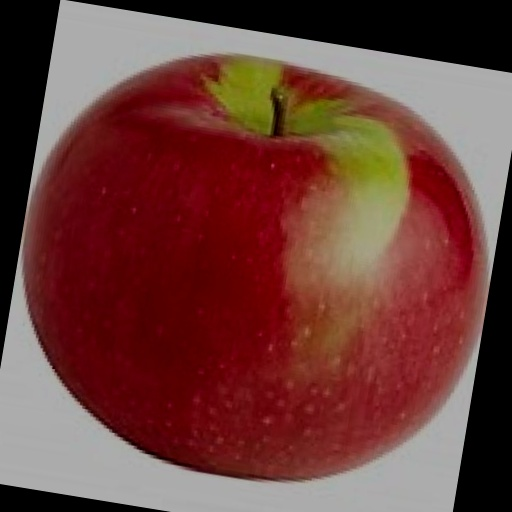fruit: (24, 56, 485, 478)
